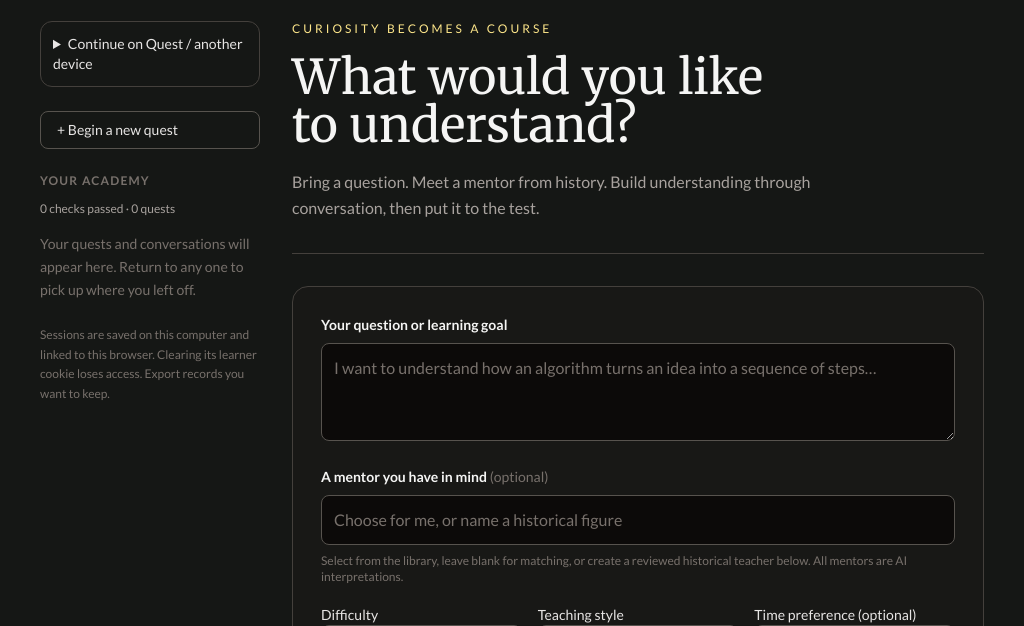
Test: starts from an arbitrary goal and mentor without microphone or browser-key setup
The width and height of the screenshot is (1024, 626).
Replace the text in the text box labelled "Your question or learning goal" with "Explain algorithms". click: (638, 392)
box: [321,343,955,441]
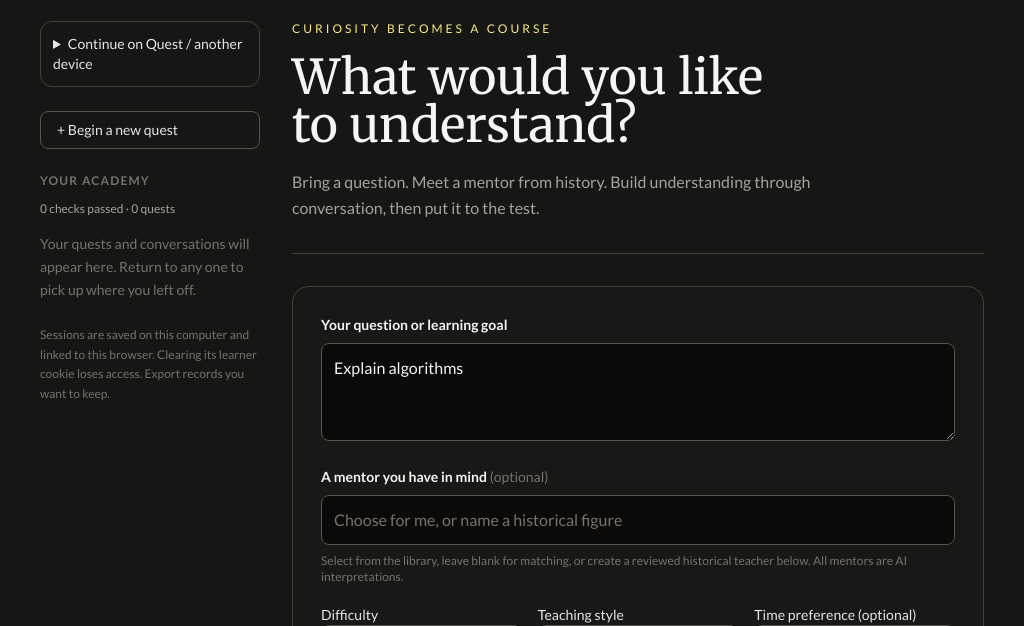
Type "Ada Lovelace" into the field labelled "A mentor you have in mind (optional)". click: (638, 520)
box: [321,495,955,545]
(page scrolled)
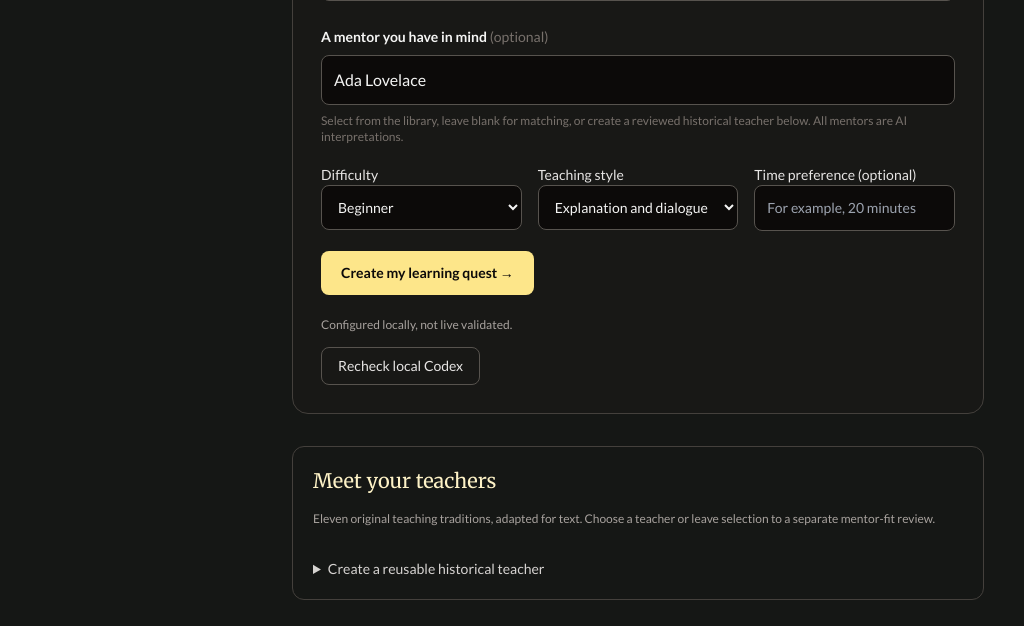
Click the button "Create my learning quest →". click: (427, 273)
box: [321,251,534,295]
(page scrolled)
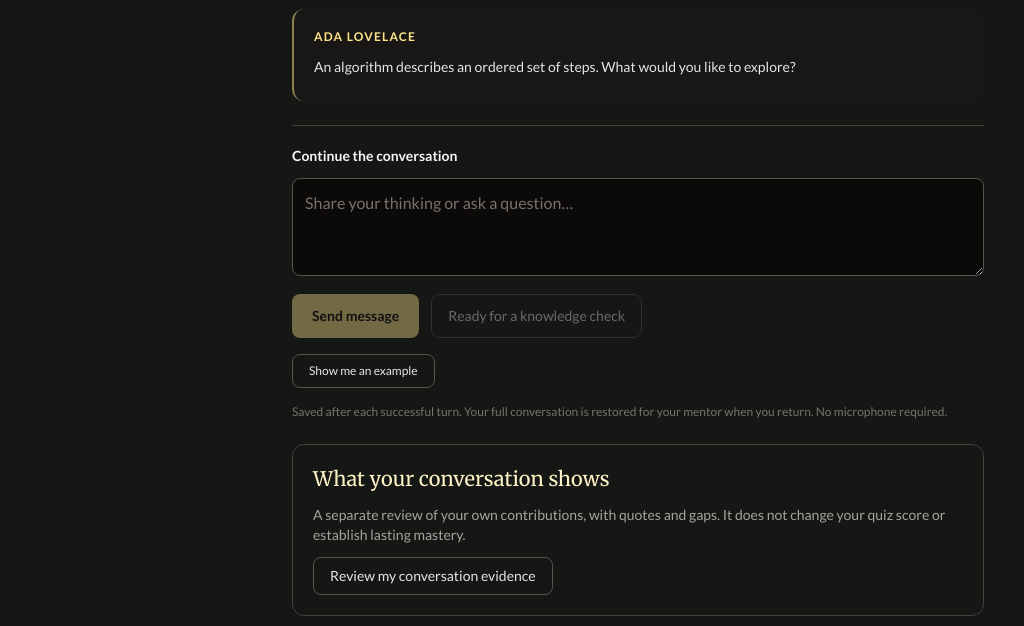
Result: the text "No microphone required" is shown at [292,404,947,419]
Result: the button "Ready for a knowledge check" is disabled at [431,294,642,338]
